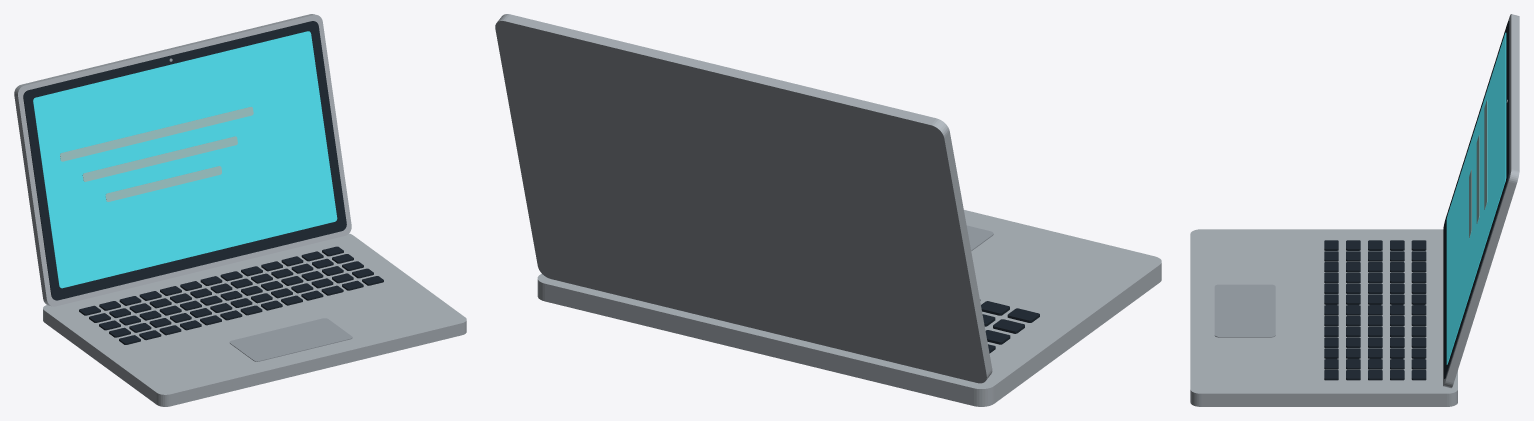
Rendered from demo-laptop.glb.
3 renders of one model, left to right at view 1: azimuth 30°, elevation 25°; view 2: azimuth 150°, elevation 25°; view 3: azimuth 270°, elevation 25°, orthographic. The views are drawn at different scales.
Parts seen in each view (by area): view 1: Display, Base, Display bezel, Lid, Display accent (×3), Trackpad; view 2: Lid, Base; view 3: Base, Display, Lid, Trackpad, Display bezel, Display accent (×2).
Part boxes in pixels (x1,y1,x2,y2): Display: (33, 31, 337, 288); Base: (43, 233, 466, 406); Display bezel: (23, 21, 346, 300); Lid: (14, 14, 351, 306); Display accent (×3): (60, 107, 253, 201); Trackpad: (229, 318, 352, 361); Lid: (495, 14, 992, 383); Base: (537, 210, 1161, 406); Base: (1190, 229, 1457, 406); Display: (1446, 32, 1506, 364); Lid: (1443, 14, 1519, 388); Trackpad: (1214, 284, 1275, 337); Display bezel: (1444, 21, 1509, 378); Display accent (×2): (1476, 100, 1487, 223).
Bounding box in the file's own units: 0.32 × 0.2111 × 0.2706.
